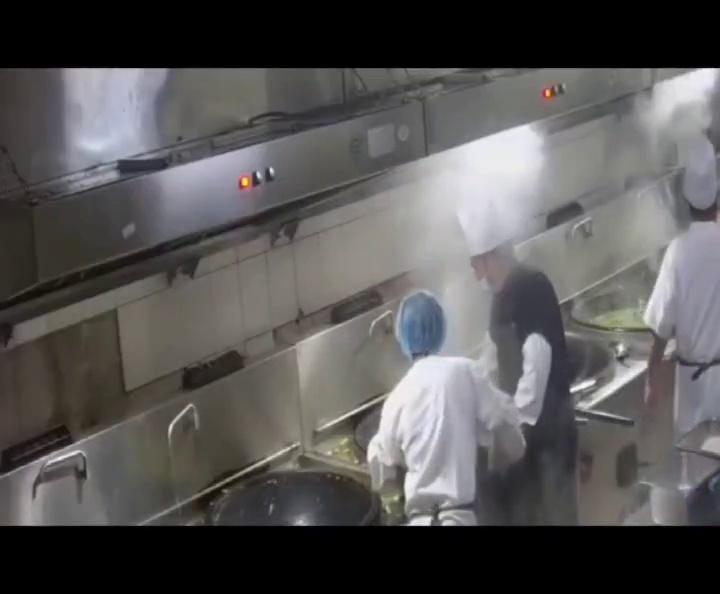gloves: (387, 286, 452, 358)
